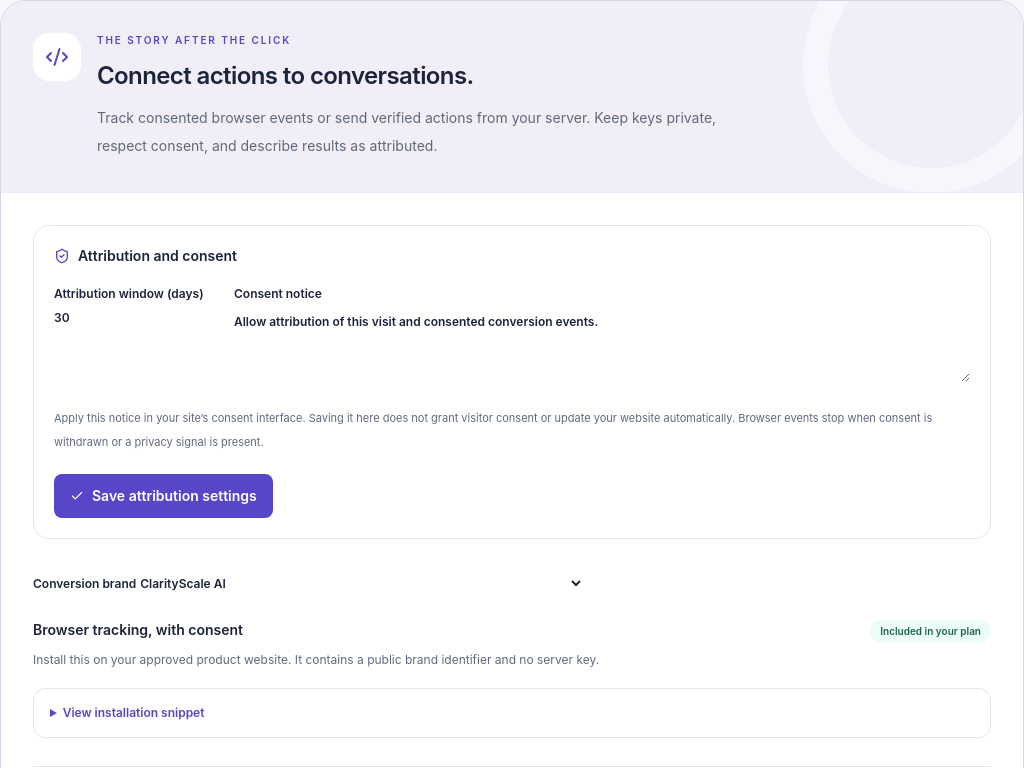
Test case: conversion integration controls › saves validated consent settings, without implying that saving grants consent
The width and height of the screenshot is (1024, 768).
Replace the text in the number field labelled "Attribution window (days)" with "14" at (134, 318), box [54, 310, 214, 326]
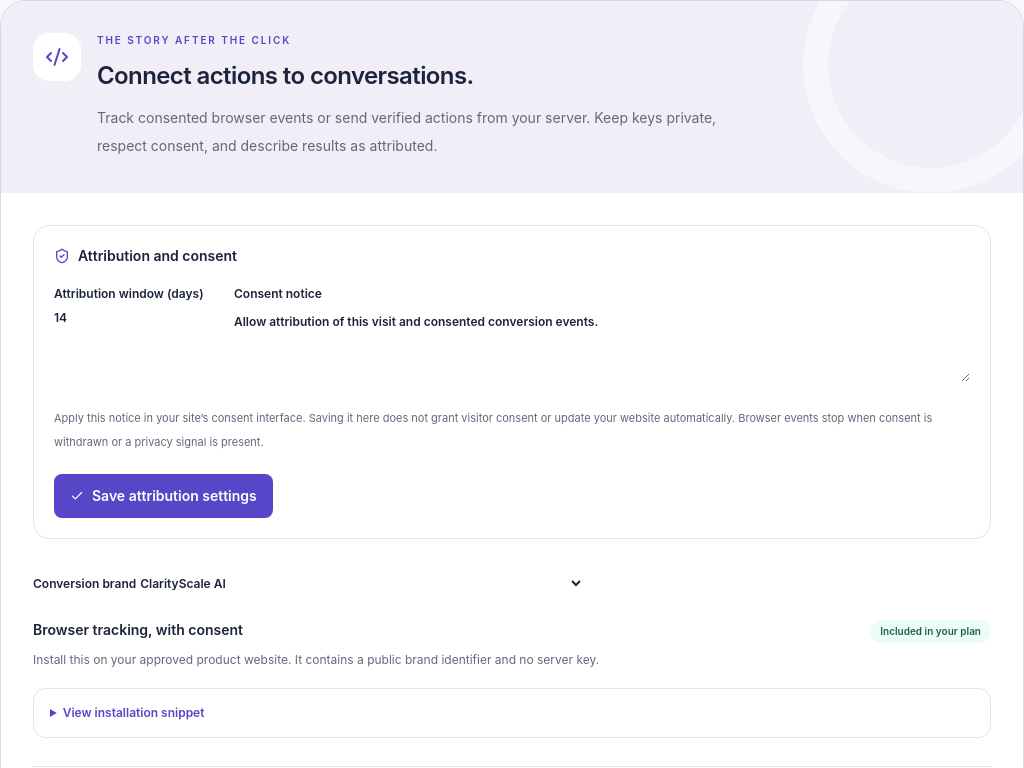
Click the button "Save attribution settings" at (163, 496), box [54, 474, 273, 518]
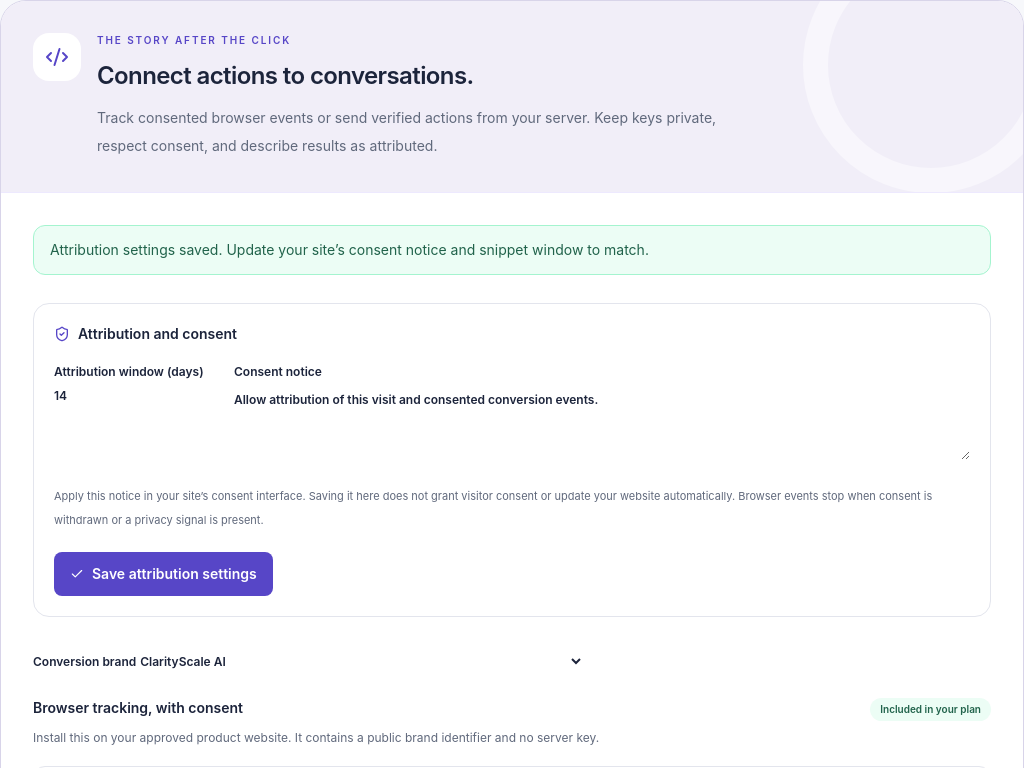
Expected: the text "does not grant visitor consent" is shown, [54, 489, 932, 527]
Now the text "Attribution settings saved" is shown, box [50, 241, 649, 258]
